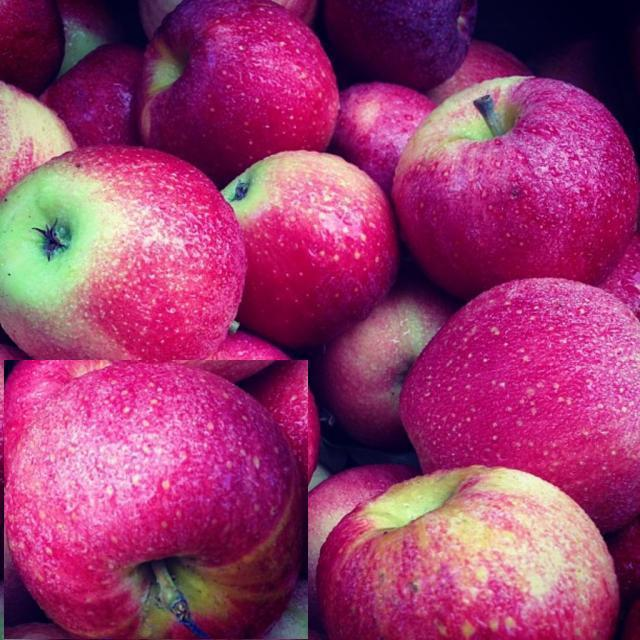Apple: (0, 0, 639, 639), (4, 360, 308, 639), (0, 144, 250, 376)
